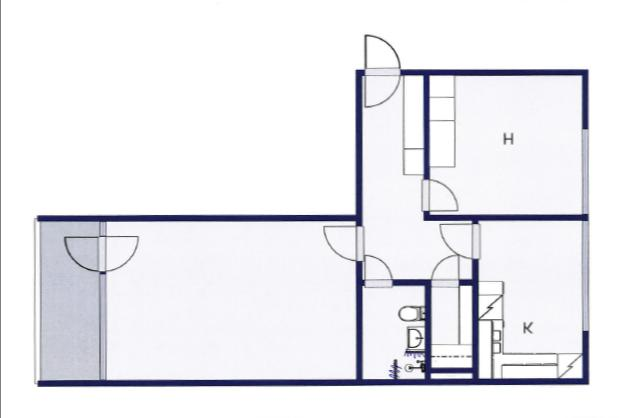door: (60, 234, 108, 274), (98, 234, 140, 276), (322, 223, 364, 263), (362, 69, 402, 110), (438, 223, 482, 259), (364, 36, 403, 76), (420, 178, 458, 214), (364, 252, 394, 290), (430, 255, 463, 289)
window: (578, 218, 590, 335), (98, 272, 108, 384), (580, 122, 591, 217), (97, 220, 107, 237)
